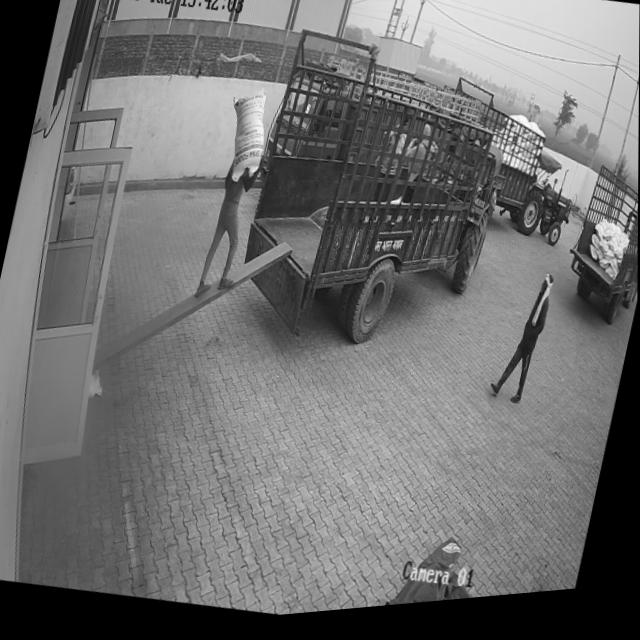sack: (215, 90, 275, 192)
